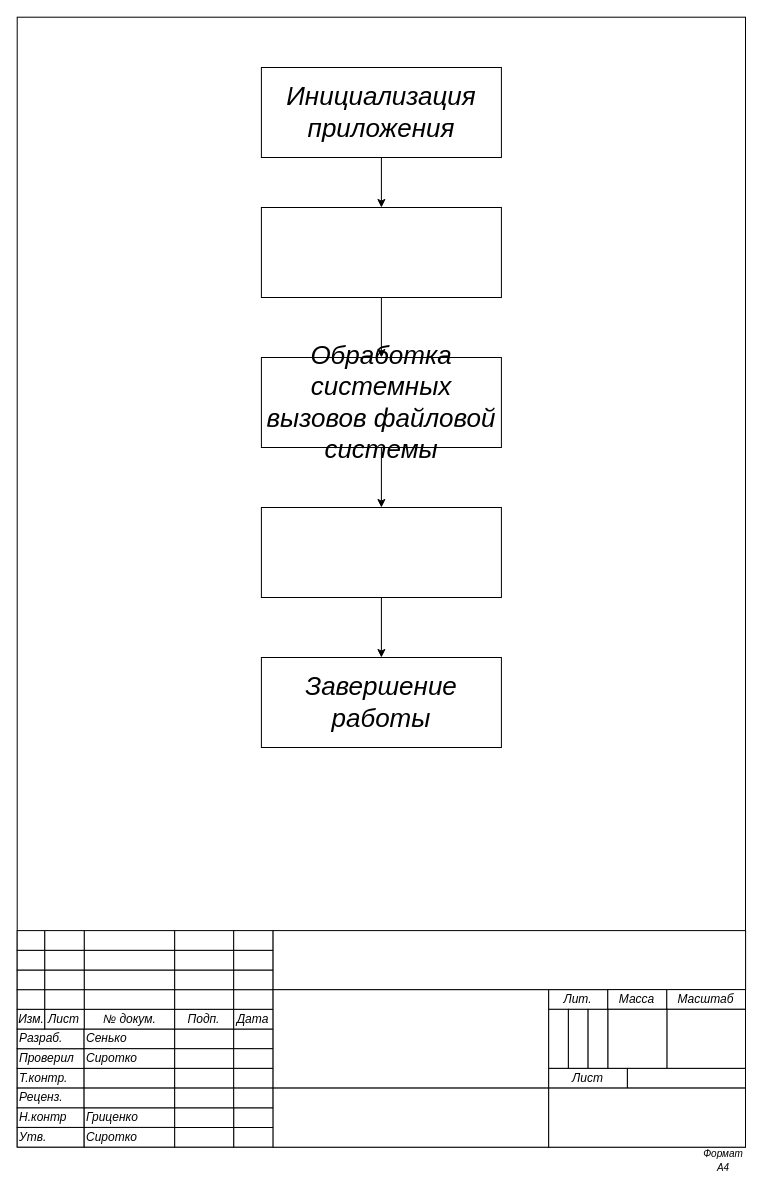
Some shapes in this 775 by 1190 pixel diagram are drawn without their labels. The shapes that lost their labels are listed below. From the top down, each one's centre as x and y in pixels, then its label:
At point 380,252: "Инициализация ядра FUSE".
At point 380,552: "Обработка сигнала звершения работы".
At point 509,960: "ГУИР.400401.029.001".
At point 410,1038: "Функциональная схема алгоритма, реализующего программное средство".
At point 686,1077: "Листов 1".
At point 647,1117: "Кафедра информатики, гр. 253505".
